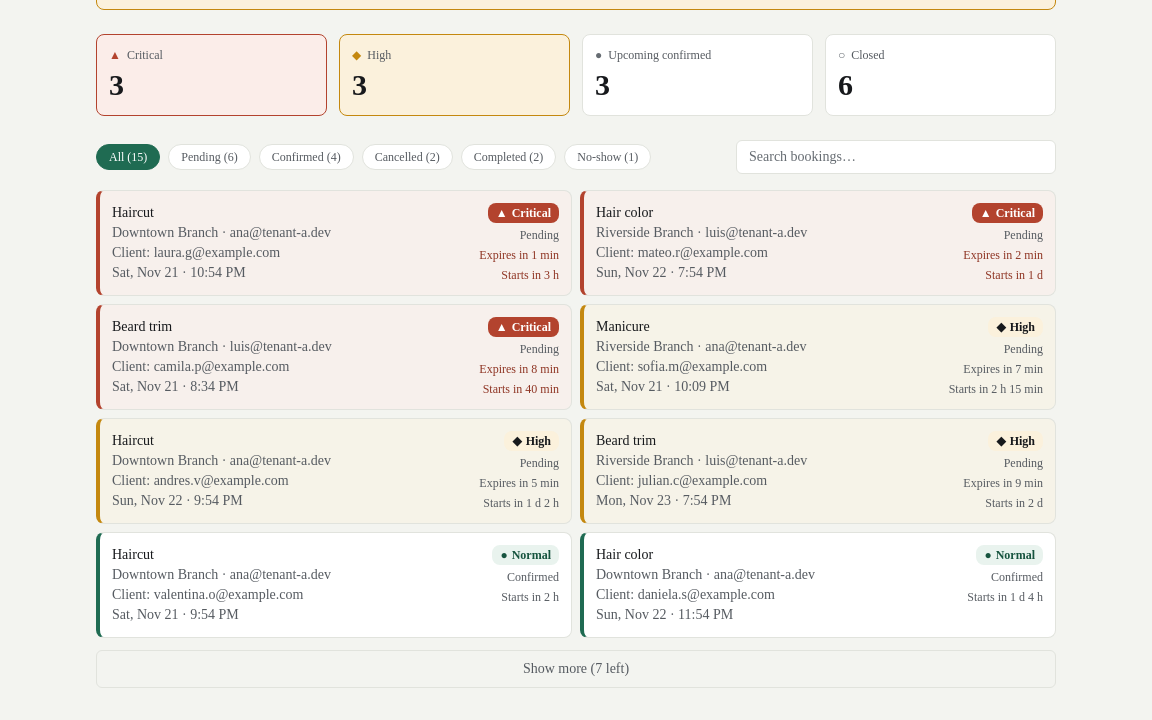
Test: /alerts — demo mode › pages the list: 8 rows, then the rest on "Show more"
(page scrolled)
Click the button "Show more (7 left)".
click(576, 669)  # box [96,650,1056,688]
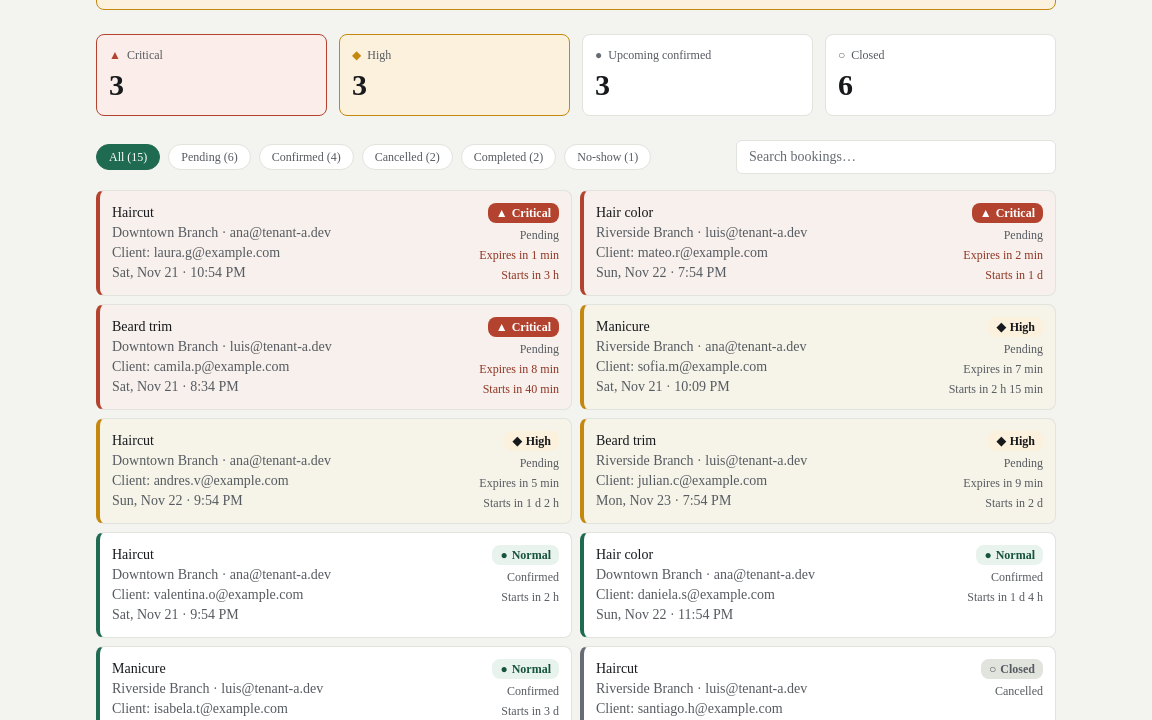
Expected: the button "Show more" is gone
